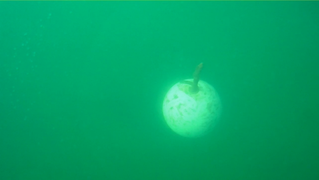buoy: (161, 78, 223, 137)
